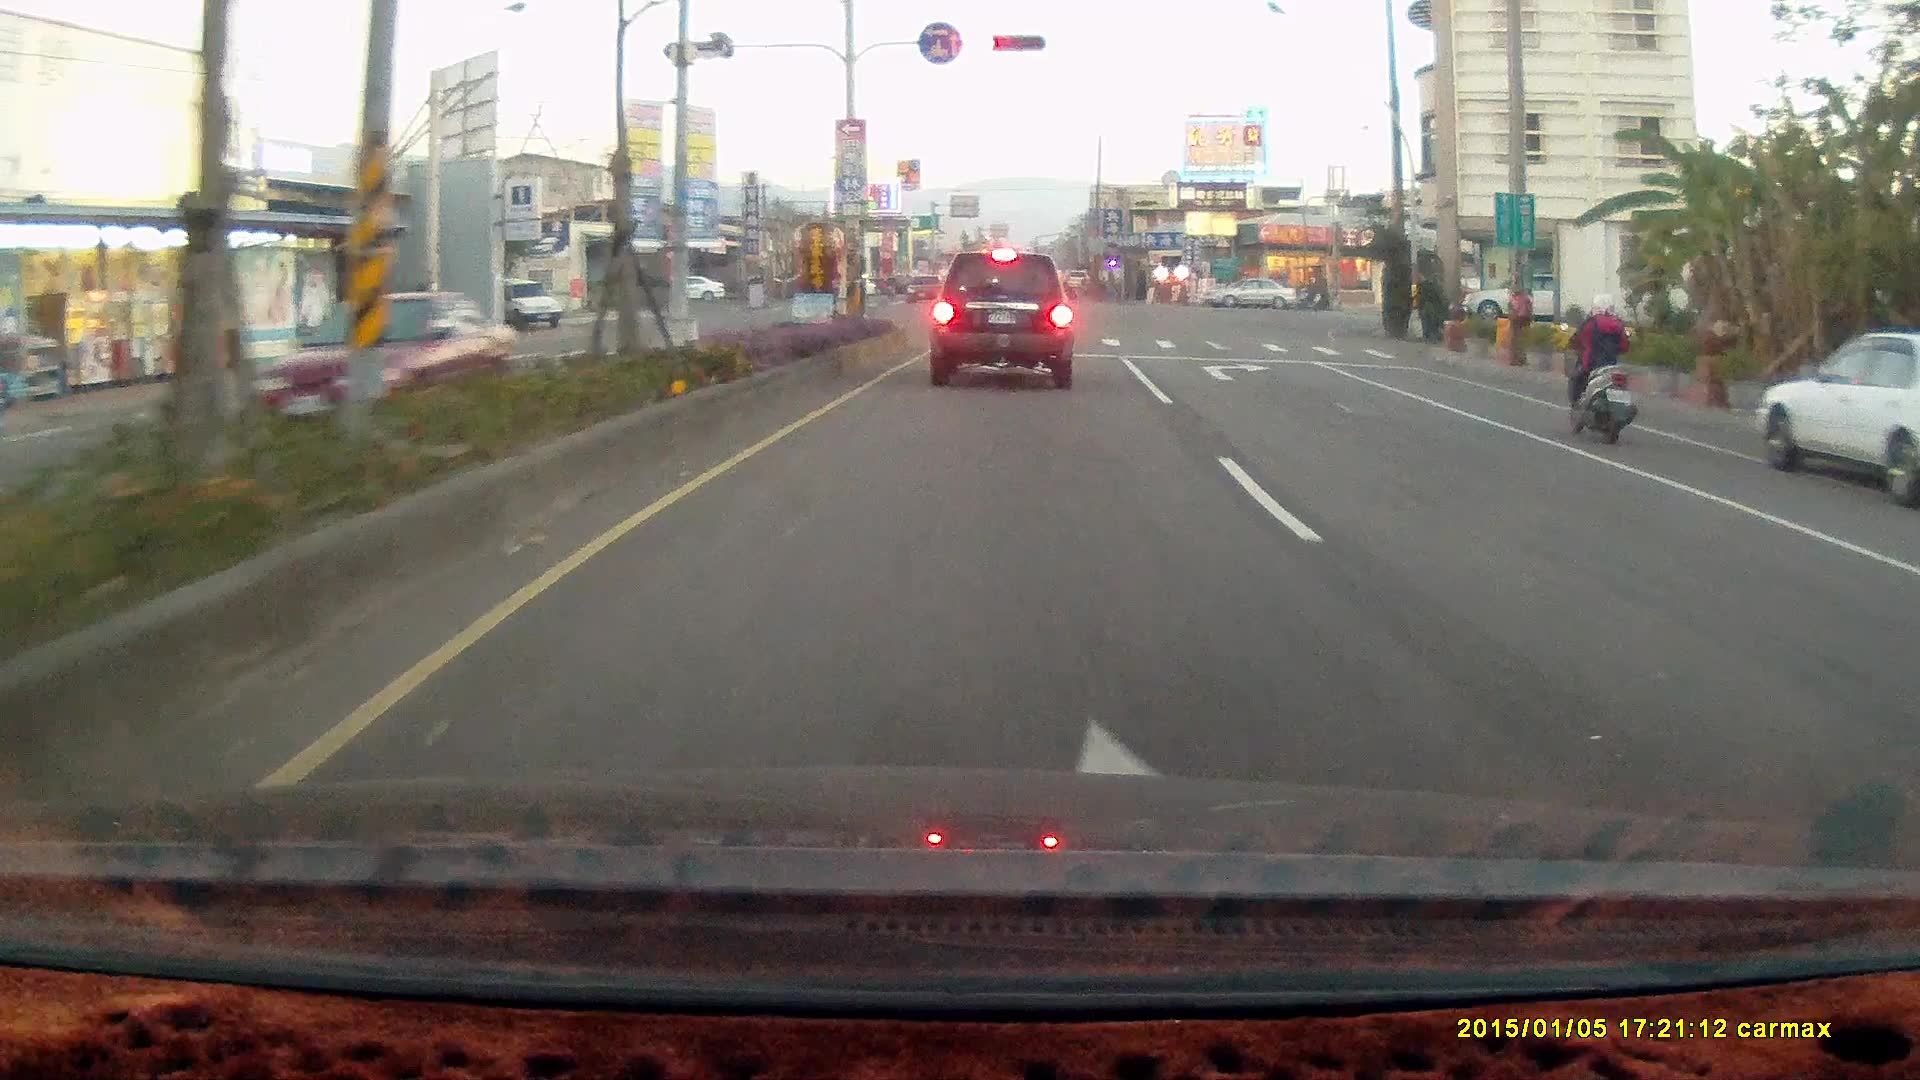rider: (1556, 289, 1638, 444), (1295, 276, 1324, 313)
vehicle: (1753, 331, 1920, 503), (1753, 333, 1920, 503), (929, 250, 1077, 390), (1896, 493, 1920, 836), (1461, 272, 1584, 328), (1883, 528, 1920, 690), (493, 278, 564, 329), (1201, 279, 1298, 316), (1200, 275, 1296, 311)
